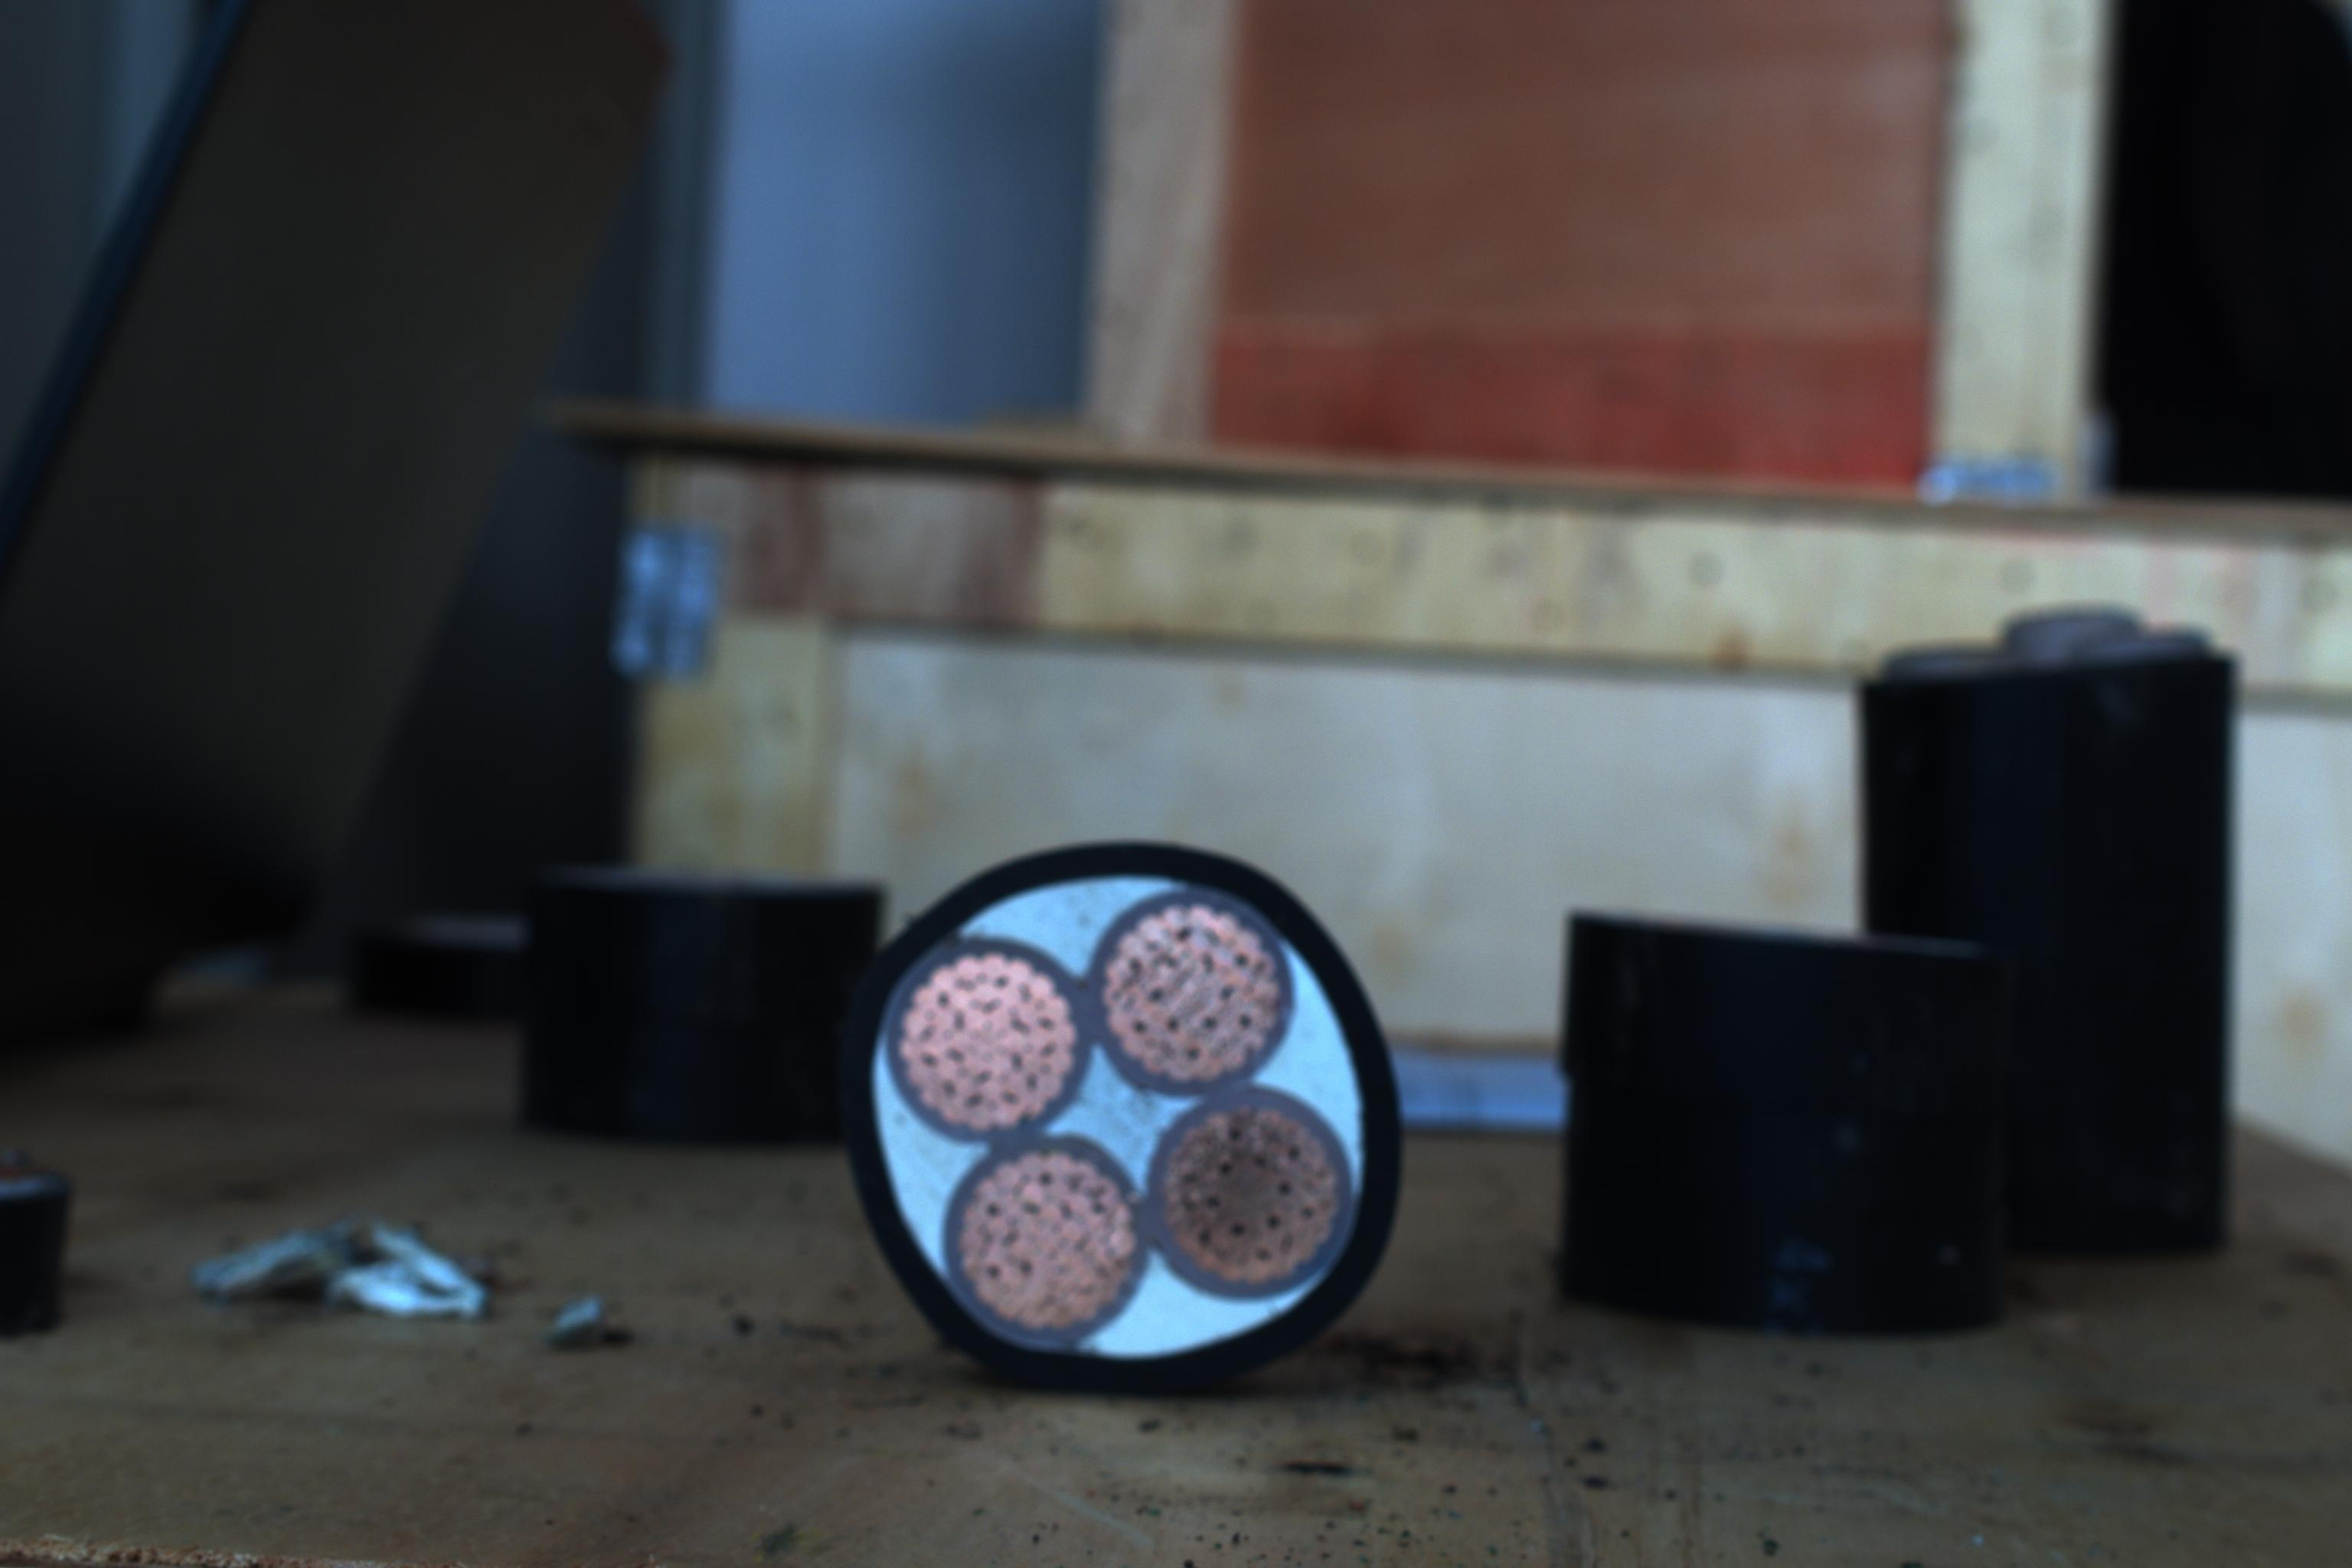YJV_0.6_1kV_4x240: (821, 817, 1412, 1384)
